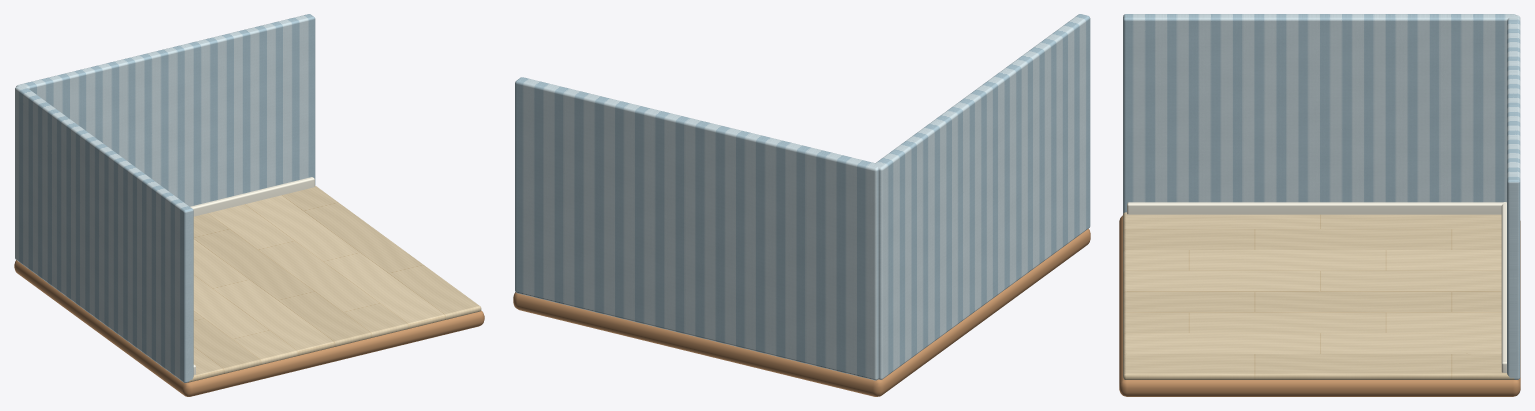
File: room2.glb
3 views of the same model, side by side, from view 1: azimuth 30°, elevation 25°; view 2: azimuth 150°, elevation 25°; view 3: azimuth 270°, elevation 25° (orthographic). The views are drawn at different scales.
Visible parts, largest first — view 1: Back wall, Cream floor, Left wall, Rounded room foundation, Back skirting; view 2: Back wall, Left wall, Rounded room foundation; view 3: Left wall, Cream floor, Rounded room foundation, Back wall, Left skirting, Back skirting.
Boxes of the visible parts, x1,y1,x2,y2 form: Back wall: [16, 14, 315, 206]; Cream floor: [188, 185, 481, 382]; Left wall: [15, 85, 193, 382]; Rounded room foundation: [14, 260, 484, 396]; Back skirting: [190, 177, 314, 216]; Back wall: [515, 77, 879, 380]; Left wall: [874, 14, 1090, 379]; Rounded room foundation: [513, 229, 1090, 396]; Left wall: [1123, 14, 1515, 213]; Cream floor: [1123, 212, 1514, 379]; Rounded room foundation: [1119, 215, 1520, 396]; Back wall: [1507, 15, 1520, 379]; Left skirting: [1127, 202, 1506, 214]; Back skirting: [1501, 202, 1506, 372].
Size of the model in its own units: 5.1 by 3.04 by 5.1.
4 materials, 2 textured.
